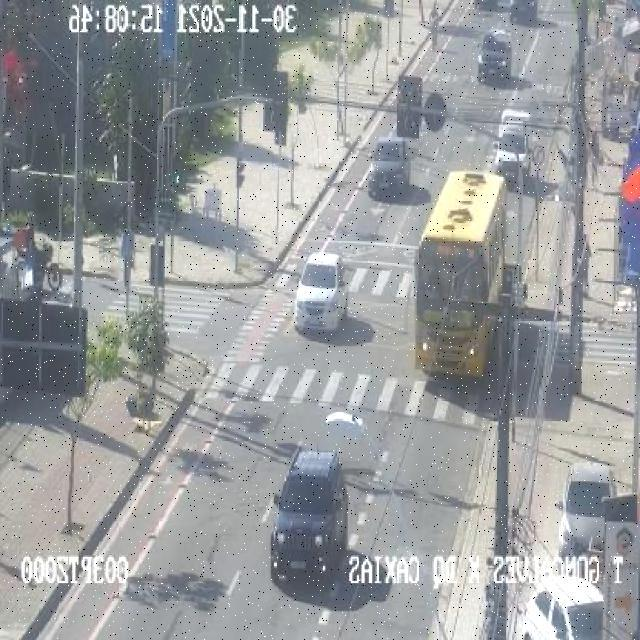bus: (416, 171, 504, 376)
car: (271, 449, 390, 610), (515, 578, 604, 640), (562, 462, 611, 556), (295, 254, 348, 332), (369, 138, 430, 204)
minivan: (498, 109, 530, 192)
